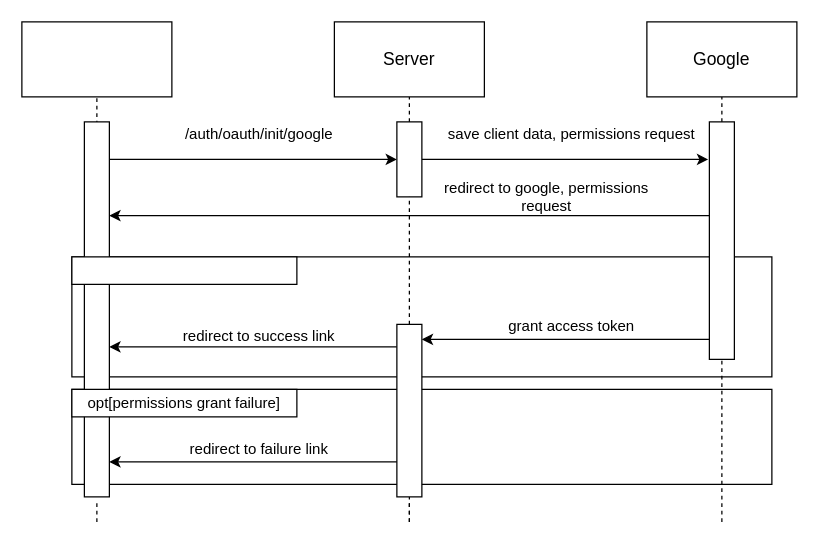
This 819x545 diagram has some shape labels left out. The shapes that lost their labels are listed below. From the top down, each one's centre as x and y in pixels, then its label:
the point at 96,59: Client
the point at 184,270: opt[permissions grant success]
